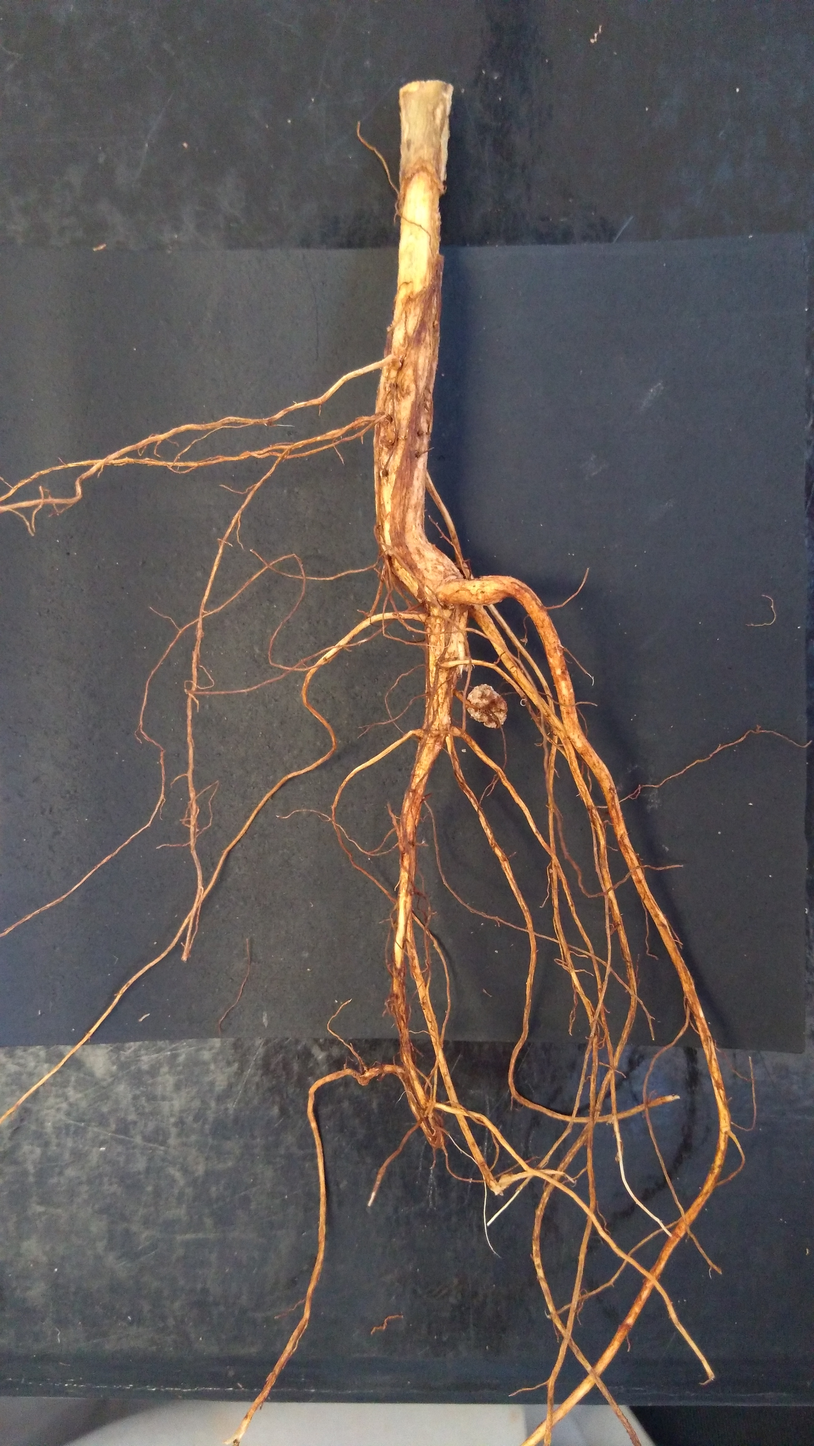nodule: (465, 683, 508, 729), (498, 1170, 515, 1190), (378, 427, 396, 445), (462, 653, 473, 672), (450, 725, 464, 738), (389, 358, 402, 370), (357, 1075, 370, 1086), (520, 637, 528, 643)
